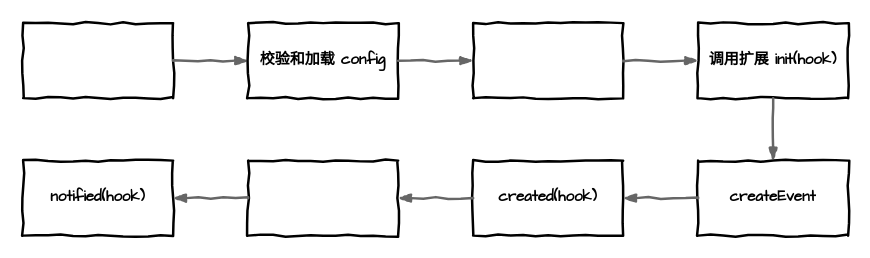
The diagram is 870 pixels wide and 258 high, and some of its shapes have lost their labels. The centre of each missing label's shape, as x and y in pixels:
"notify" belongs at (322,197).
"start" belongs at (97,60).
"加载扩展" belongs at (547,60).
